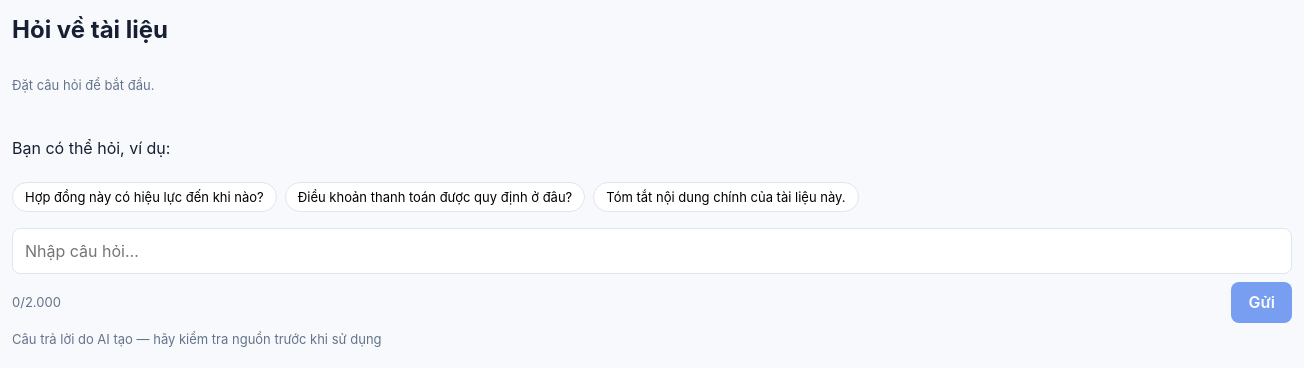
ChatPage › T-305/T-306: không có vi phạm a11y nghiêm trọng (có câu trả lời + trích dẫn)
The width and height of the screenshot is (1304, 368).
Type "Câu hỏi có đáp án và trích dẫn" into the text box with test id "question-input".
click(652, 251); type("Câu hỏi có đáp án và trích dẫn")  # box top-left (12, 228), bottom-right (1292, 274)
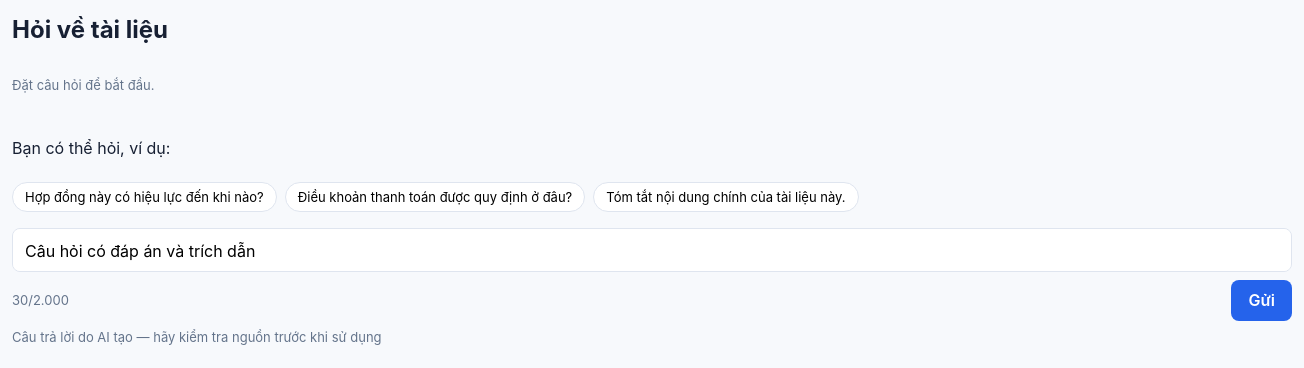
Click the button with test id "send-button".
click(1262, 300)  # box top-left (1232, 280), bottom-right (1292, 321)
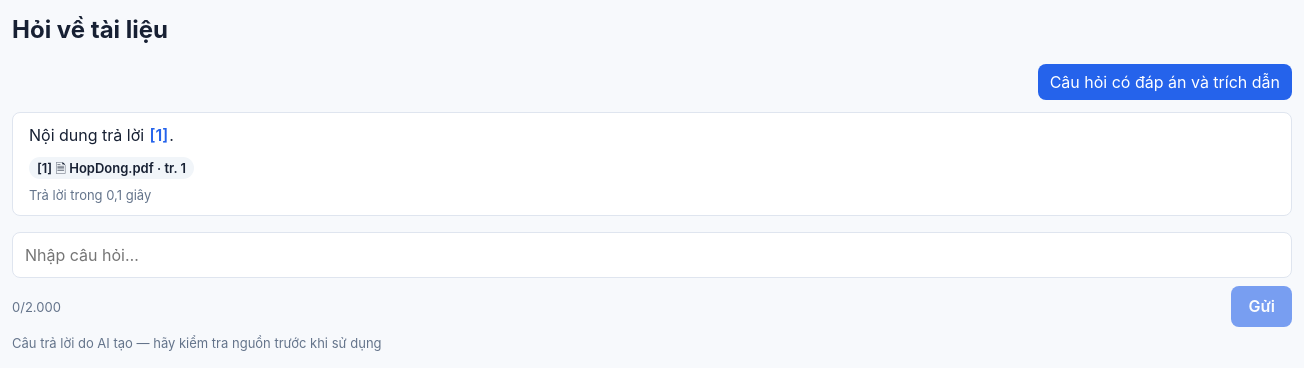
Result: the list with test id "citation-list" is shown at top-left (29, 157), bottom-right (194, 179)
